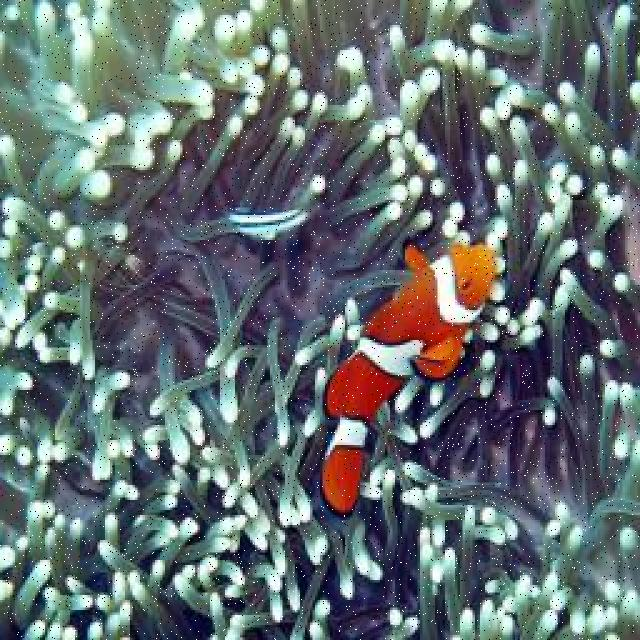fish: (321, 246, 496, 510)
